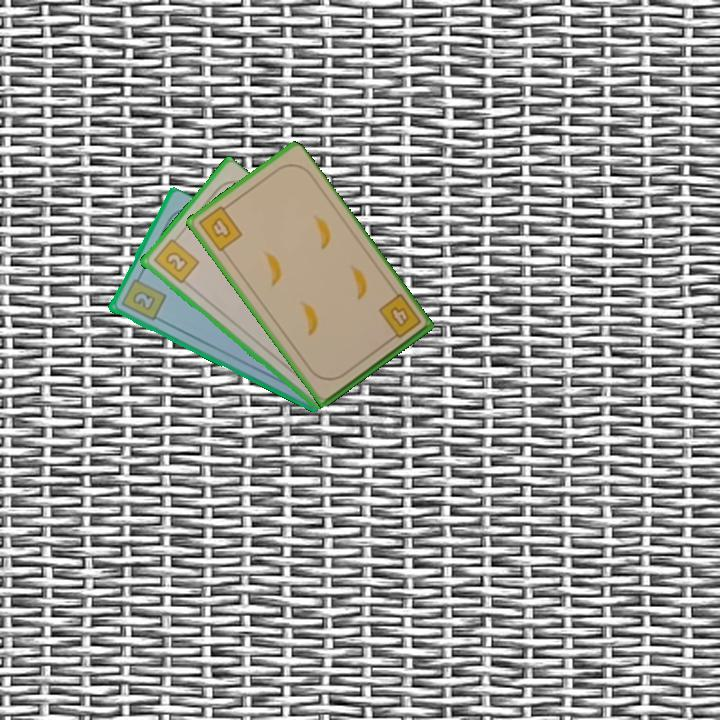2b: (150, 233, 201, 287), (117, 271, 168, 324)
4b: (195, 200, 245, 254), (375, 291, 424, 345)
